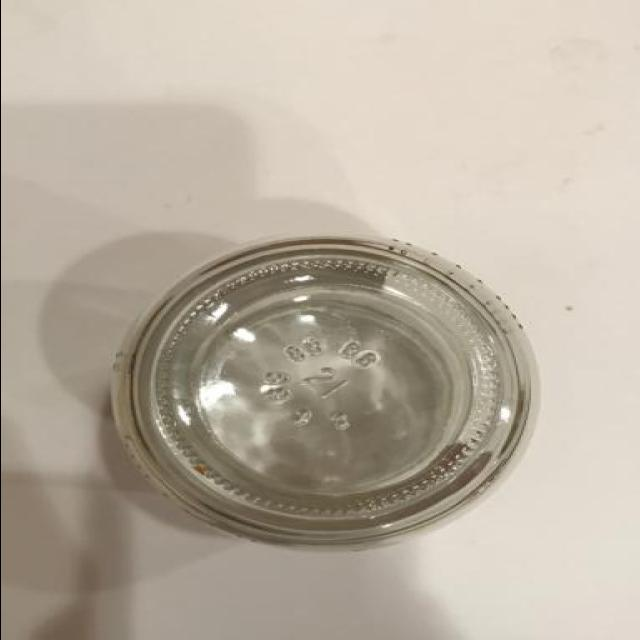litter: (105, 233, 543, 552)
